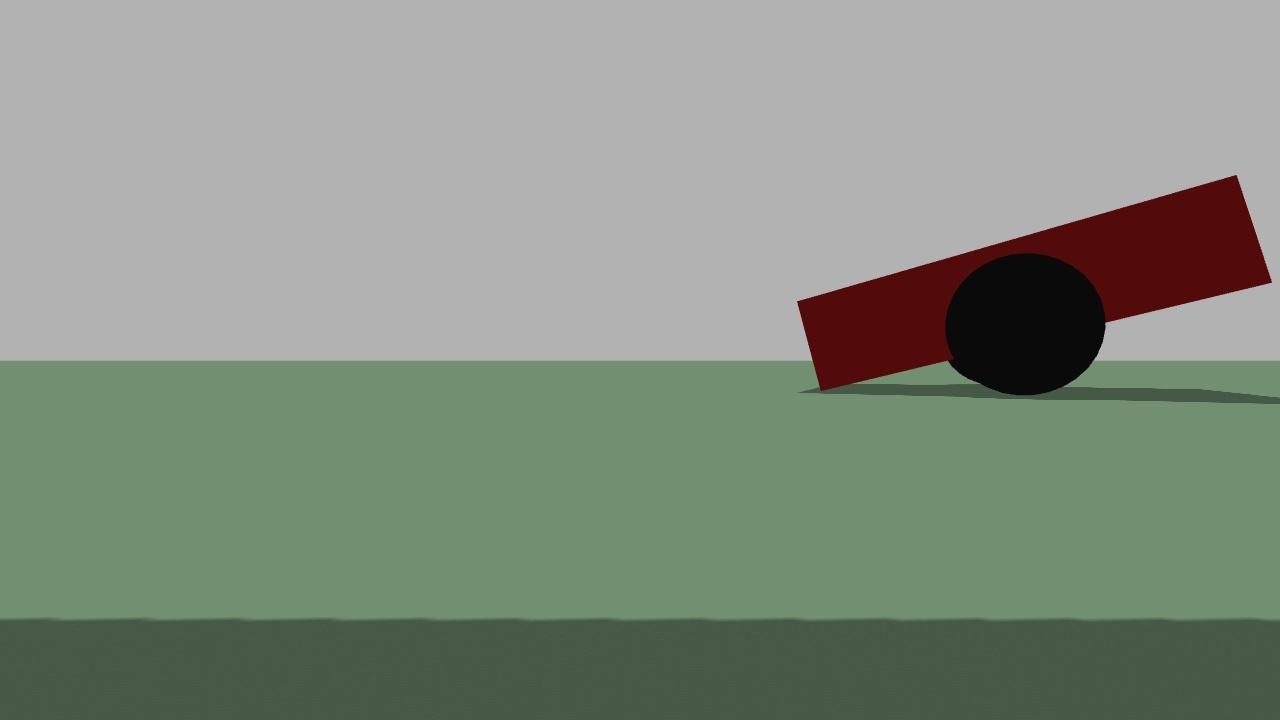ground_vehicle: (783, 155, 1277, 397)
